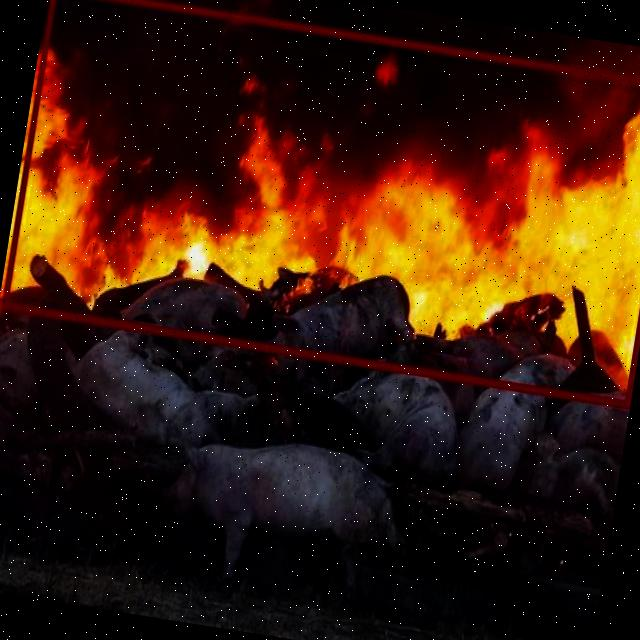fire: (3, 0, 640, 405)
